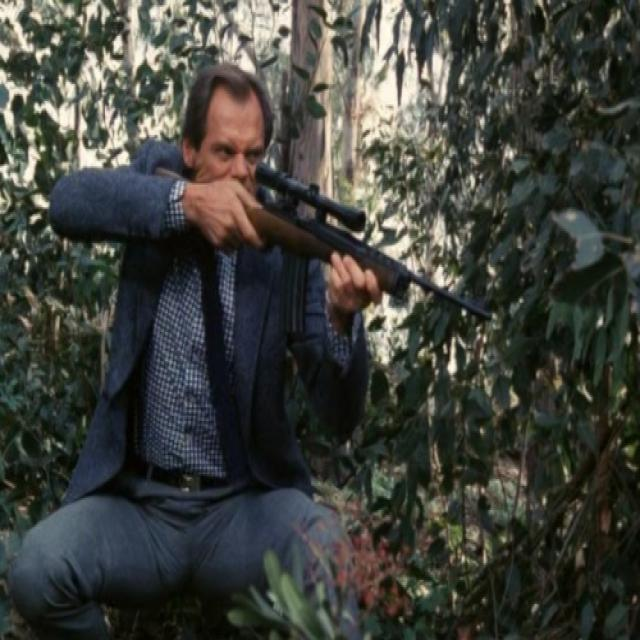rifle: (256, 165, 501, 348)
